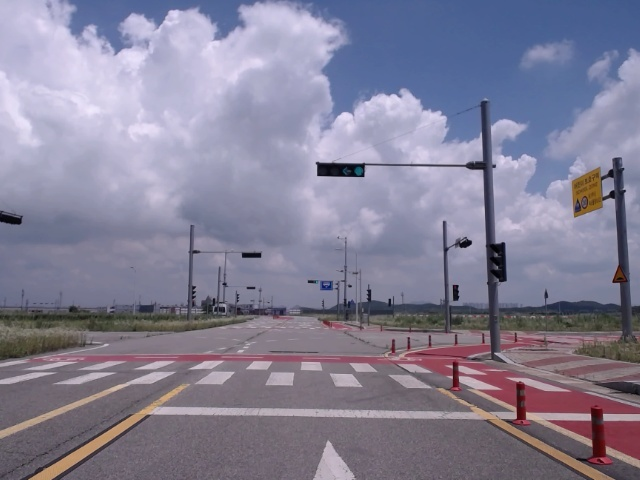all_green_4: (316, 159, 363, 177)
